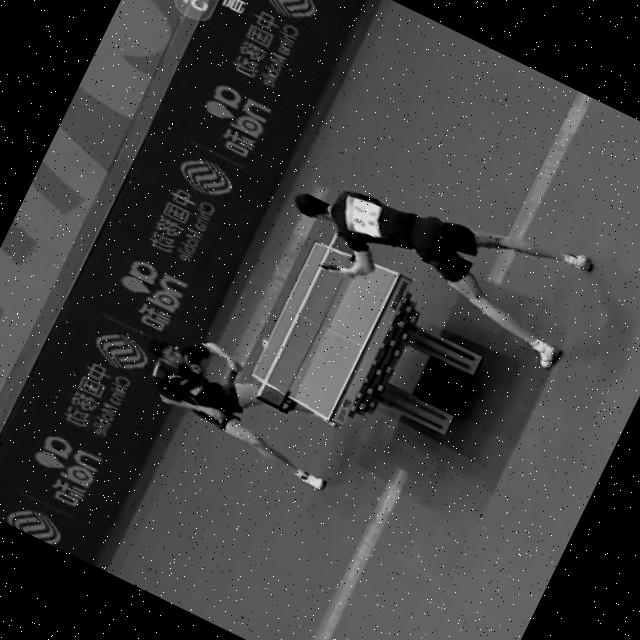ping-pong-ball: (254, 332, 272, 349)
